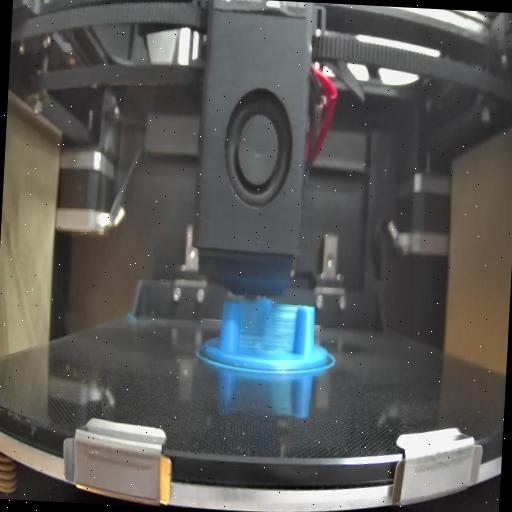stringing: (242, 301, 298, 351)
